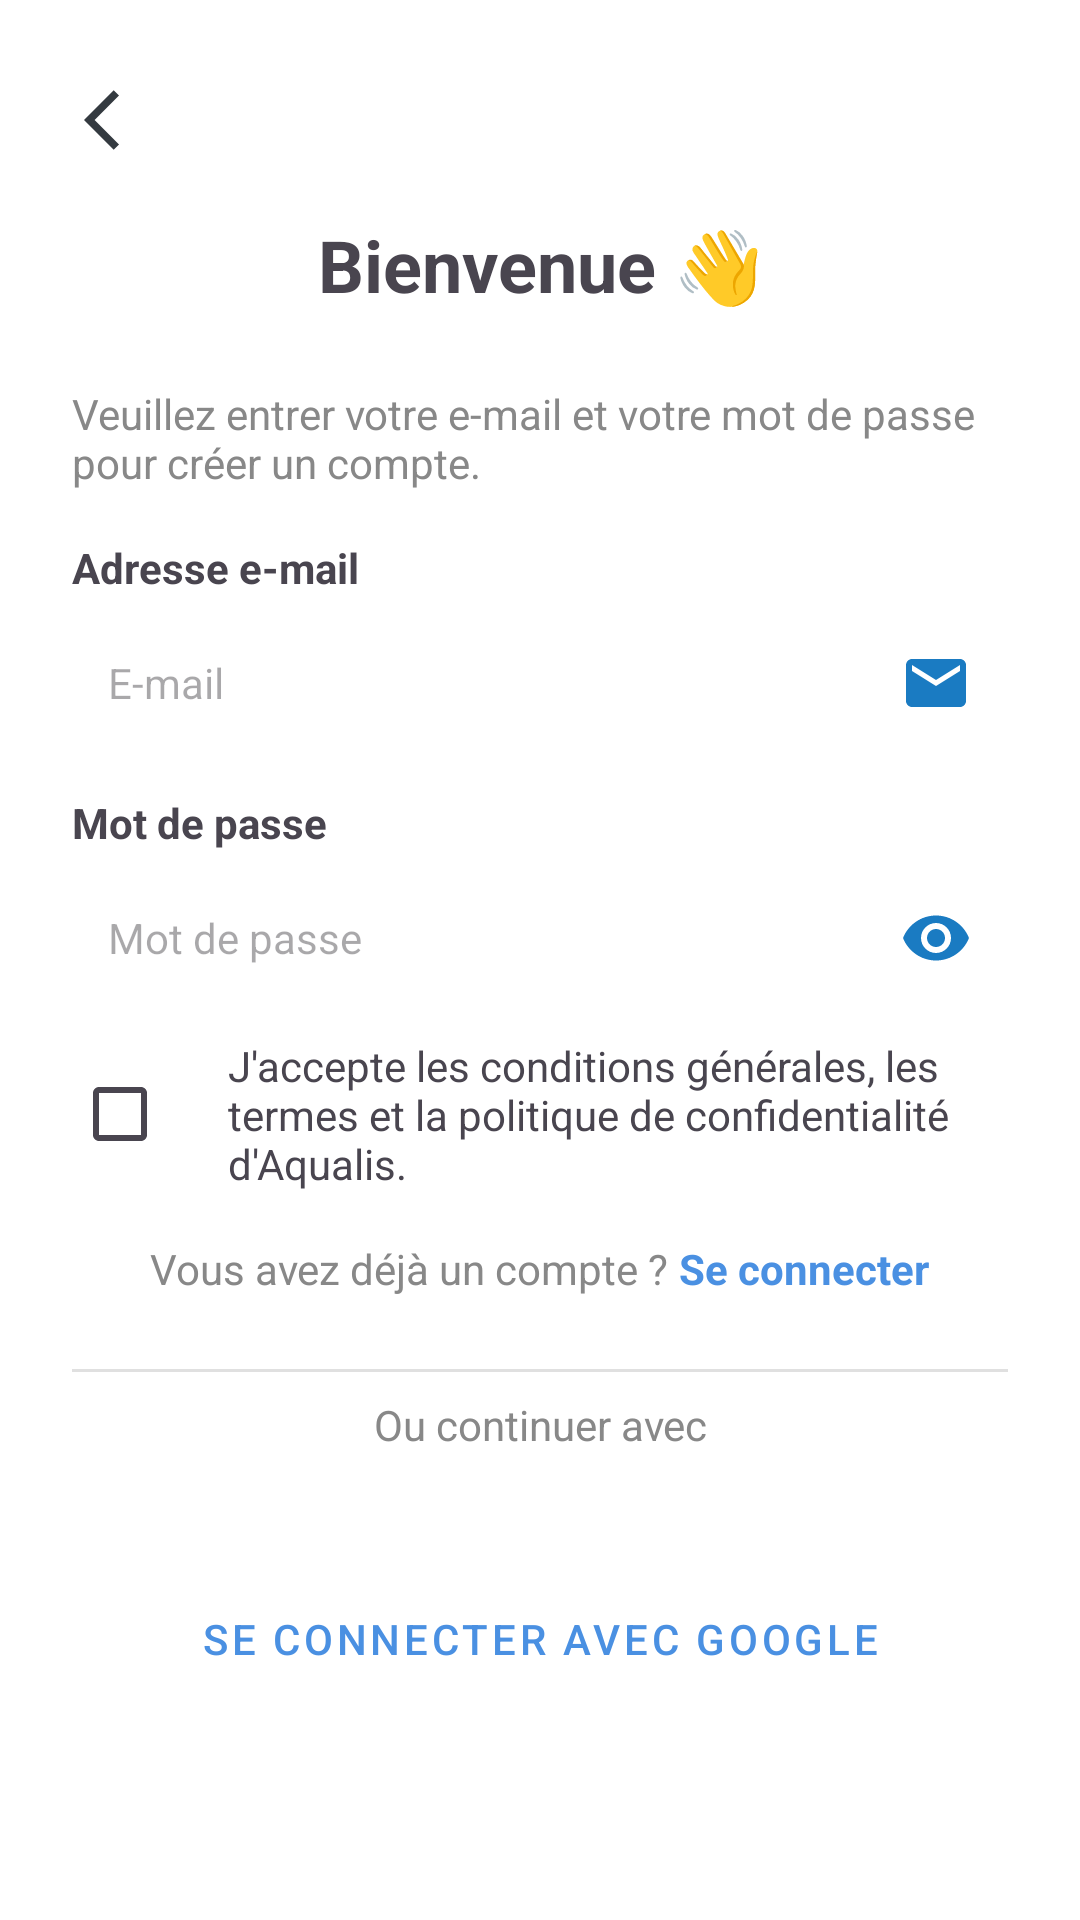

Screen size 1080 x 1920. Icon name, then its center in pixels as point (x, y):
back: point (101, 120)
eye: point (936, 938)
